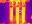Hotspot: (10, 0, 21, 5), (16, 8, 19, 24), (22, 8, 25, 24), (10, 8, 13, 21), (20, 0, 25, 3)
